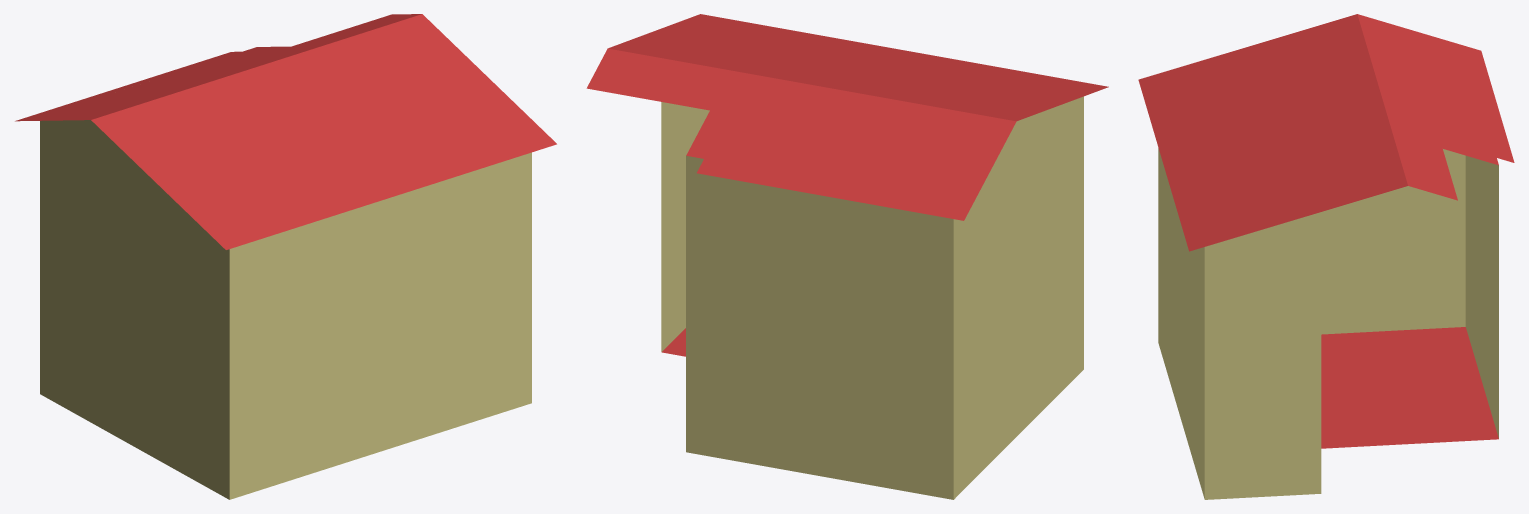
3 renders of one model, left to right at view 1: azimuth 30°, elevation 25°; view 2: azimuth 150°, elevation 25°; view 3: azimuth 270°, elevation 25°, orthographic. The views are drawn at different scales.
Bounding box in the file's own units: 12.5 × 10.46 × 9.54.
